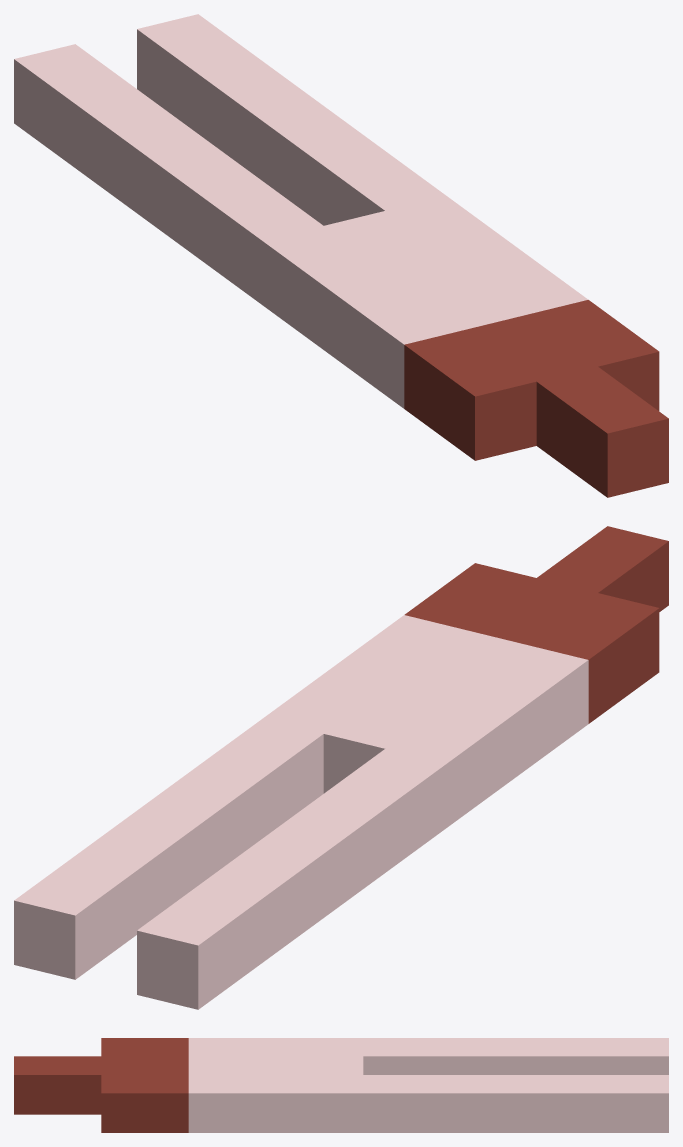
The model's file is MagicDagger.obj.
3 renders of one model, top to bottom at view 1: azimuth 30°, elevation 25°; view 2: azimuth 150°, elevation 25°; view 3: azimuth 270°, elevation 25°, orthographic. The views are drawn at different scales.
Size of the model in its own units: 0.3 by 0.1 by 1.5.
Materials: 1 (1 with a texture image).
